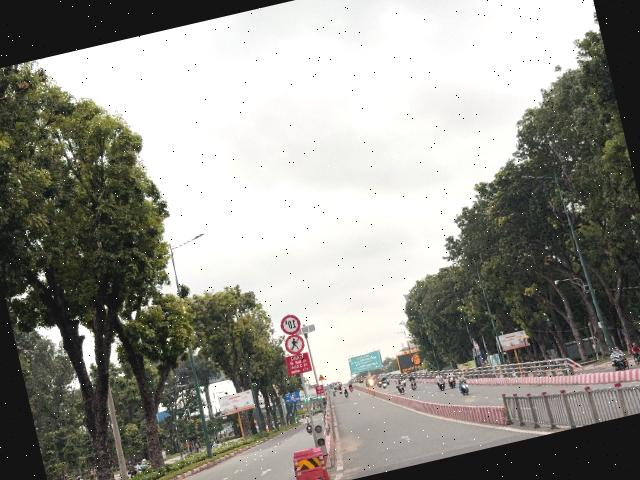cam-nguoi-di-bo: (282, 331, 306, 356)
han-che-trong-luong-xe: (278, 312, 302, 336)
